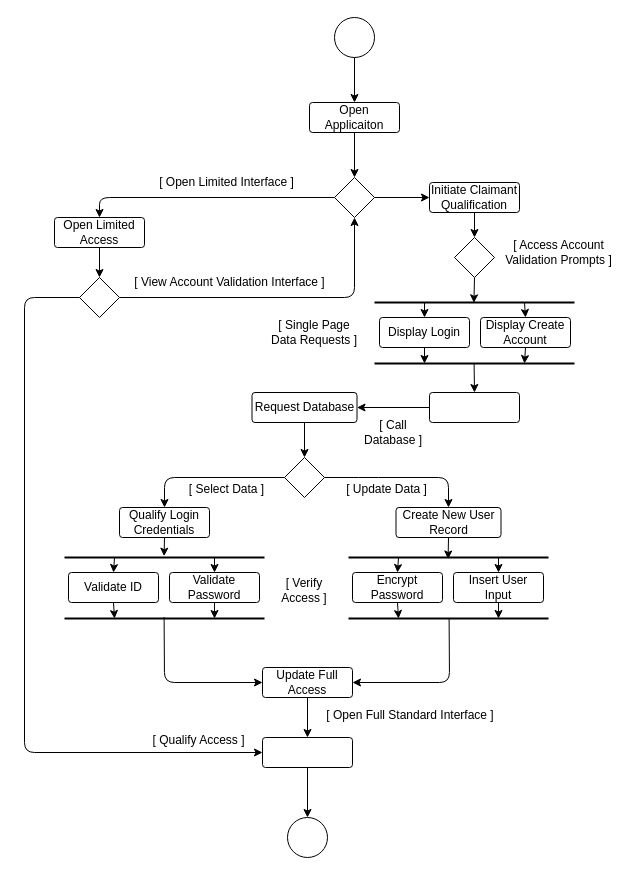
This 633x875 diagram has some shape labels left out. The shapes that lost their labels are listed below. From the top down, each one's centre as x and y in pixels, then its label:
[474,407]: Retrieve User Input
[307,752]: Display Media
